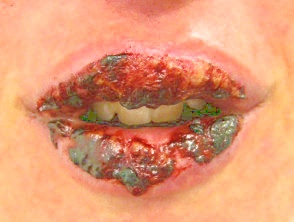SJS-TEN: (1, 13, 294, 222)
